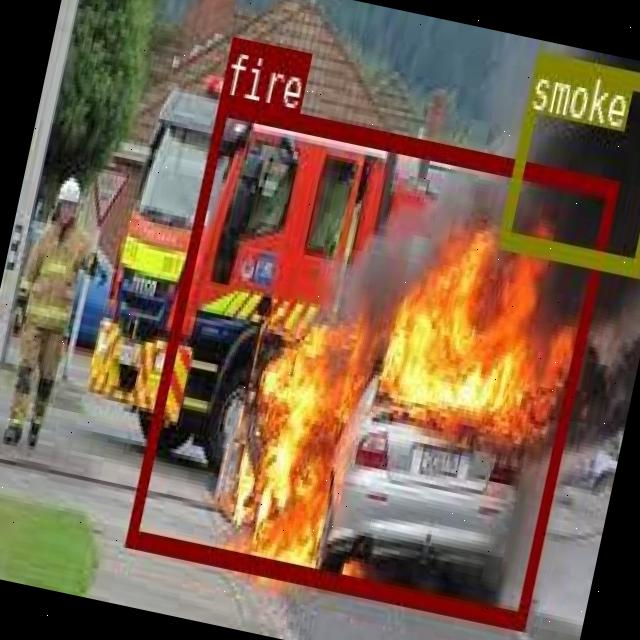fire: (125, 93, 616, 624)
smoke: (497, 49, 640, 273)
